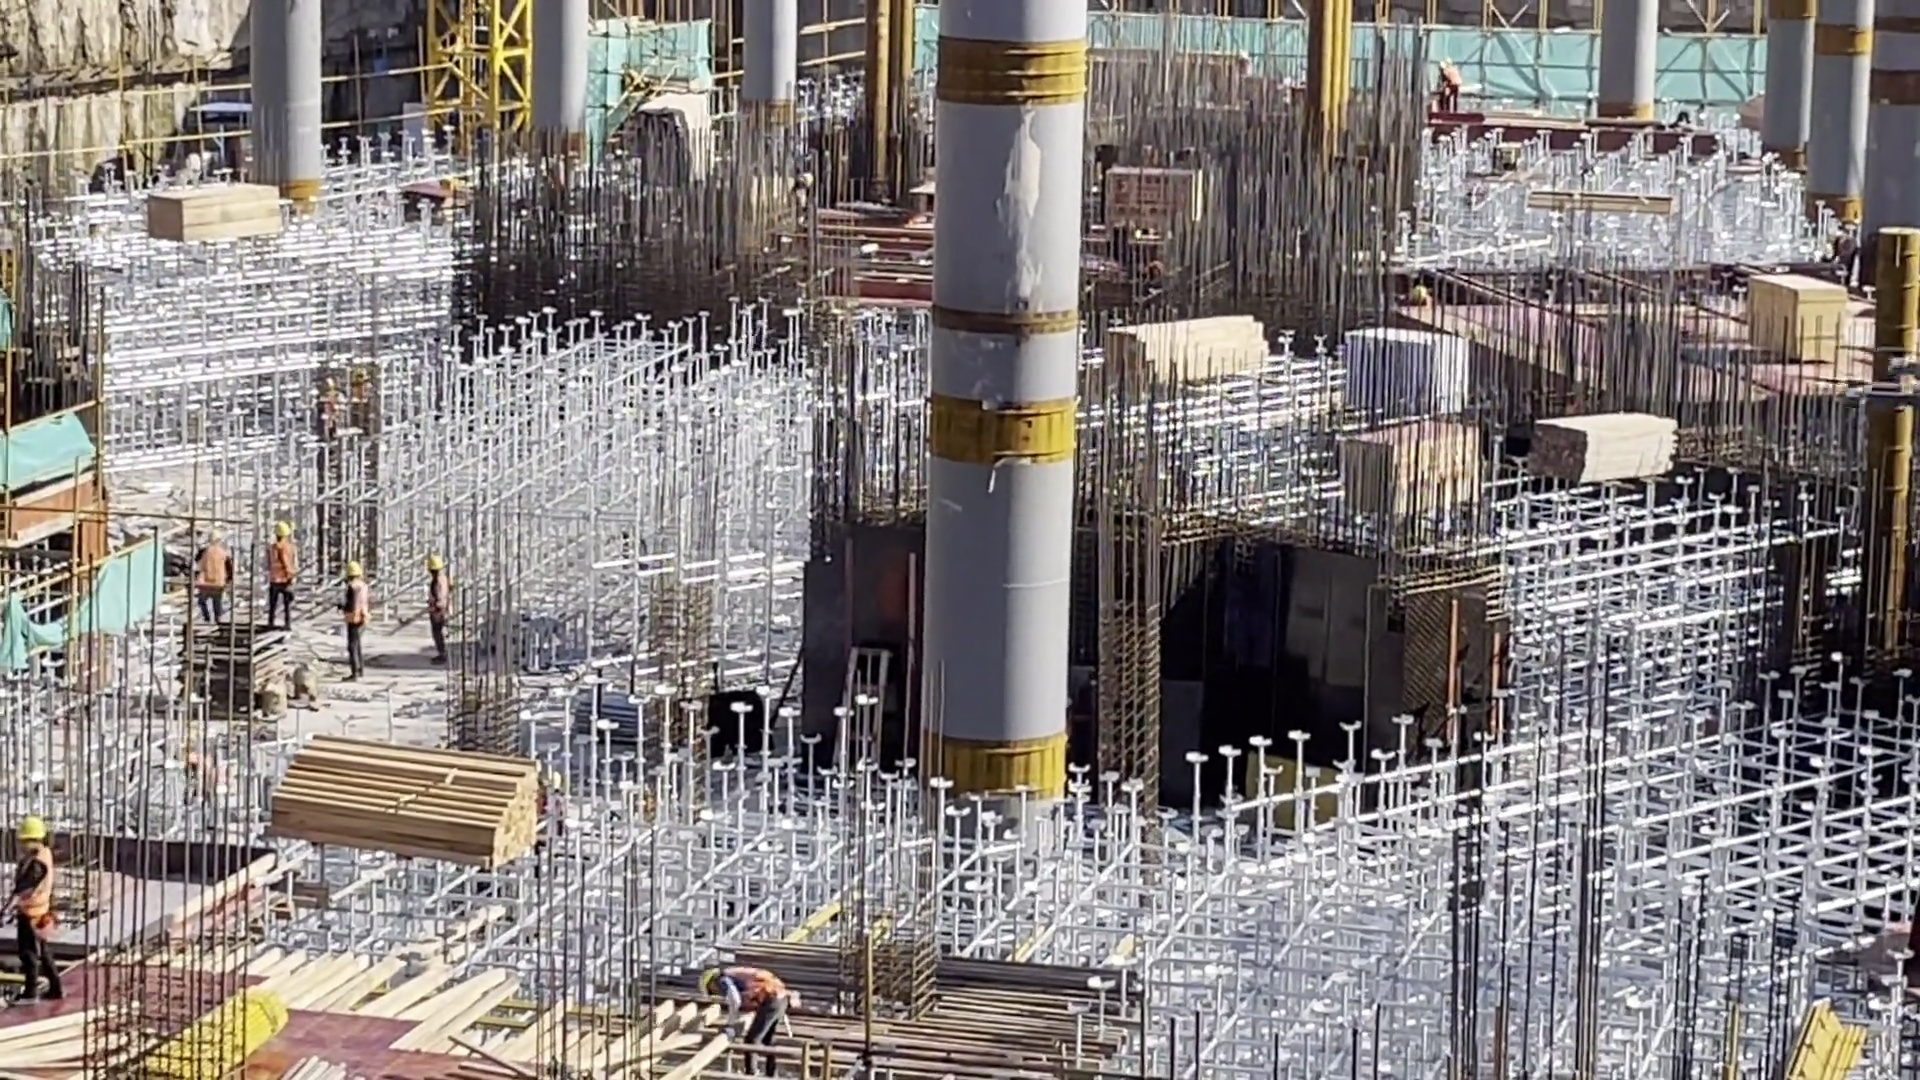board: (1337, 418, 1481, 516), (1747, 272, 1851, 360)
helmet: (19, 814, 46, 841), (425, 553, 445, 571), (272, 523, 296, 538), (206, 532, 226, 544), (345, 561, 361, 574)
person: (5, 816, 56, 1010), (708, 965, 794, 1076), (340, 559, 375, 683), (194, 528, 234, 626), (267, 523, 302, 630), (423, 553, 455, 662), (1438, 60, 1462, 109)
rebar: (640, 932, 1153, 1080)
vest: (11, 848, 56, 943), (729, 971, 783, 1008), (193, 550, 230, 597), (270, 541, 297, 587), (346, 584, 372, 627), (429, 573, 450, 615)
wood: (270, 731, 548, 863), (1102, 315, 1275, 390), (1530, 410, 1679, 487), (146, 184, 282, 248), (1528, 194, 1672, 216)
